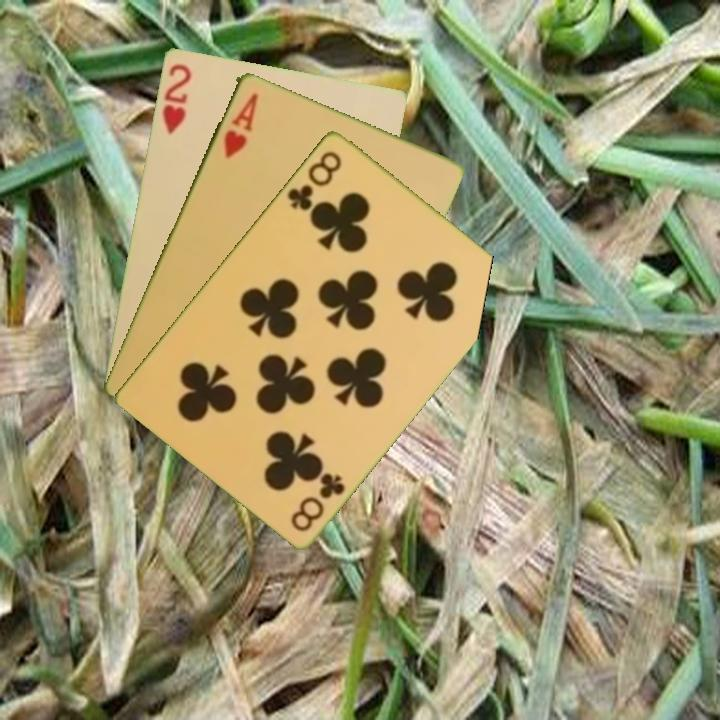2h: (158, 59, 194, 137)
8c: (283, 147, 345, 214), (287, 468, 348, 534)
Ah: (219, 88, 261, 161)
